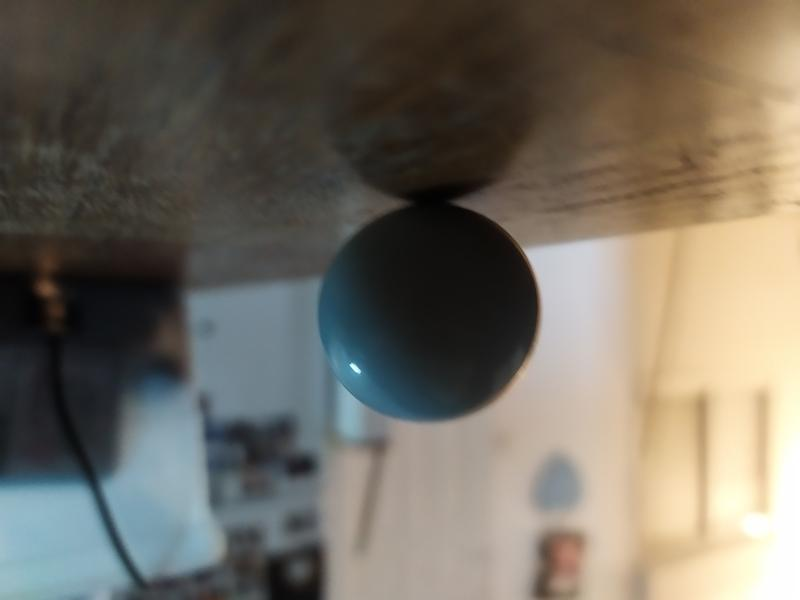Warning: (312, 197, 546, 429)
